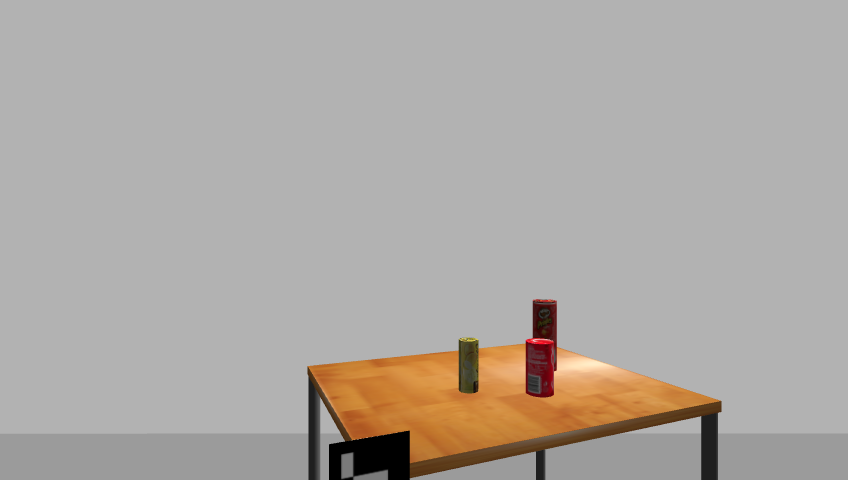aruco marker: (322, 430, 416, 480)
biscuits pack: (457, 337, 480, 396)
coke can: (522, 339, 558, 398)
dinner table: (295, 343, 731, 480)
pringles can: (533, 300, 557, 372)
